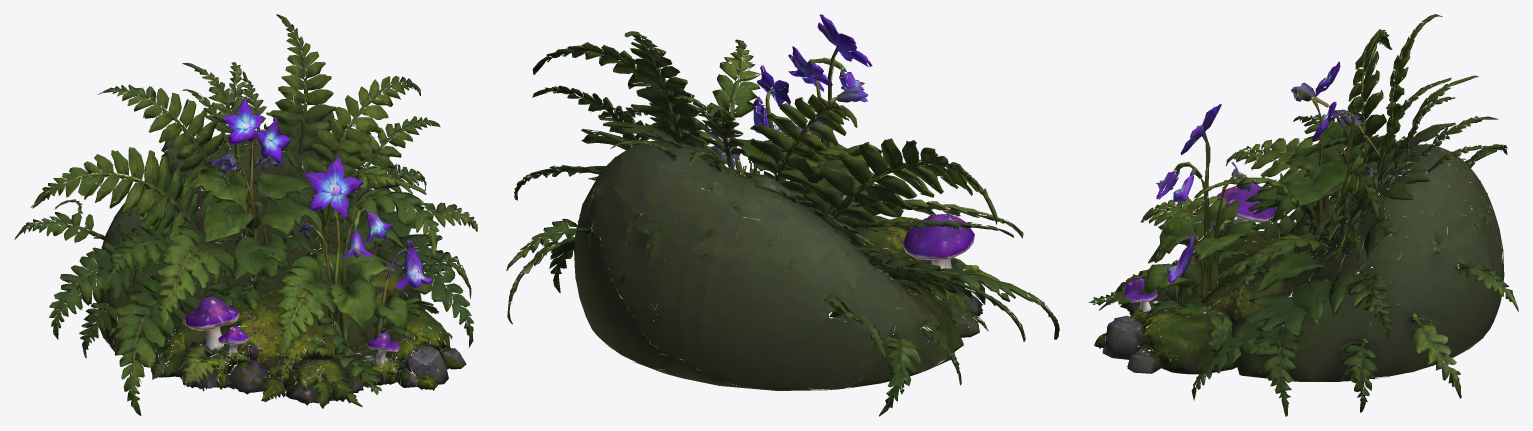
File: fern.glb
The picture shows the model from 3 angles, left to right: view 1: azimuth 30°, elevation 25°; view 2: azimuth 150°, elevation 25°; view 3: azimuth 270°, elevation 25°; orthographic projection. The views are drawn at different scales.
Parts seen in each view (by area): view 1: tripo_node_70deb29d-2259-4a98-a52b-2888ec304e4e; view 2: tripo_node_70deb29d-2259-4a98-a52b-2888ec304e4e; view 3: tripo_node_70deb29d-2259-4a98-a52b-2888ec304e4e.
Boxes of the visible parts, x1,y1,x2,y2 form: tripo_node_70deb29d-2259-4a98-a52b-2888ec304e4e: [14, 14, 477, 415]; tripo_node_70deb29d-2259-4a98-a52b-2888ec304e4e: [506, 14, 1059, 416]; tripo_node_70deb29d-2259-4a98-a52b-2888ec304e4e: [1088, 14, 1518, 416].
Size of the model in its own units: 2.02 by 1.3 by 1.77.
1 material, 1 textured.
